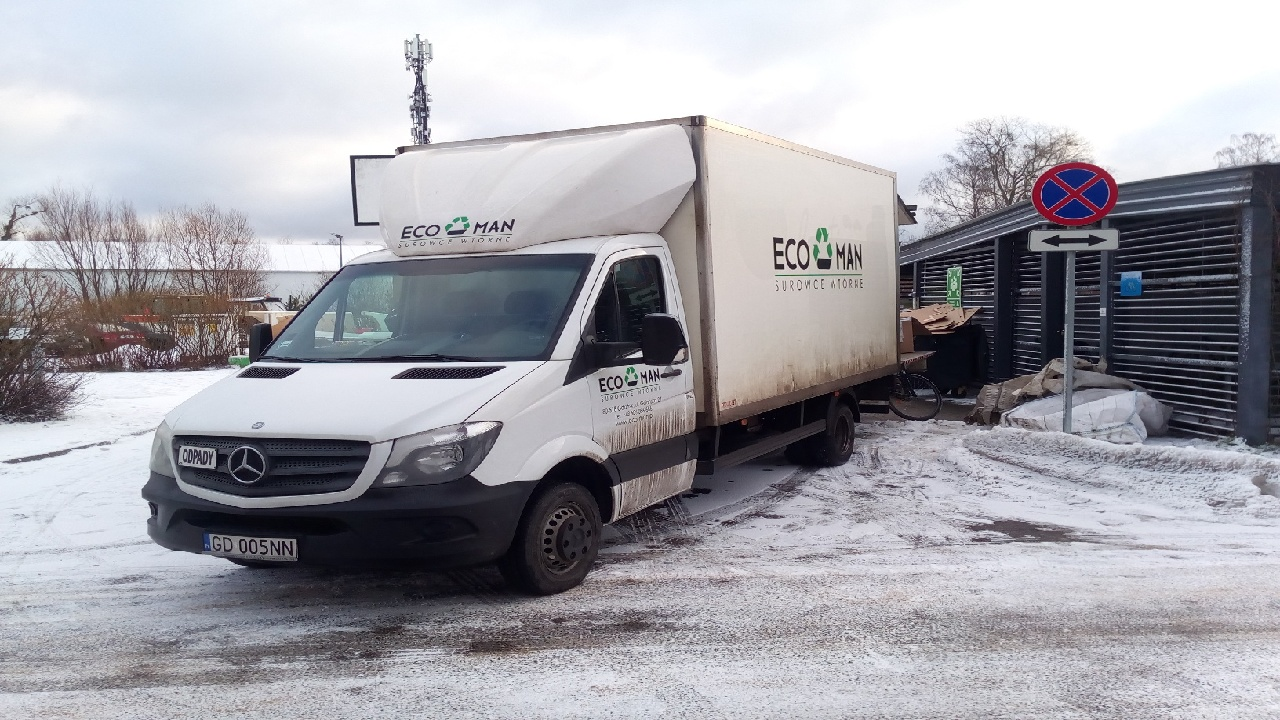B36: (1031, 163, 1118, 226)
